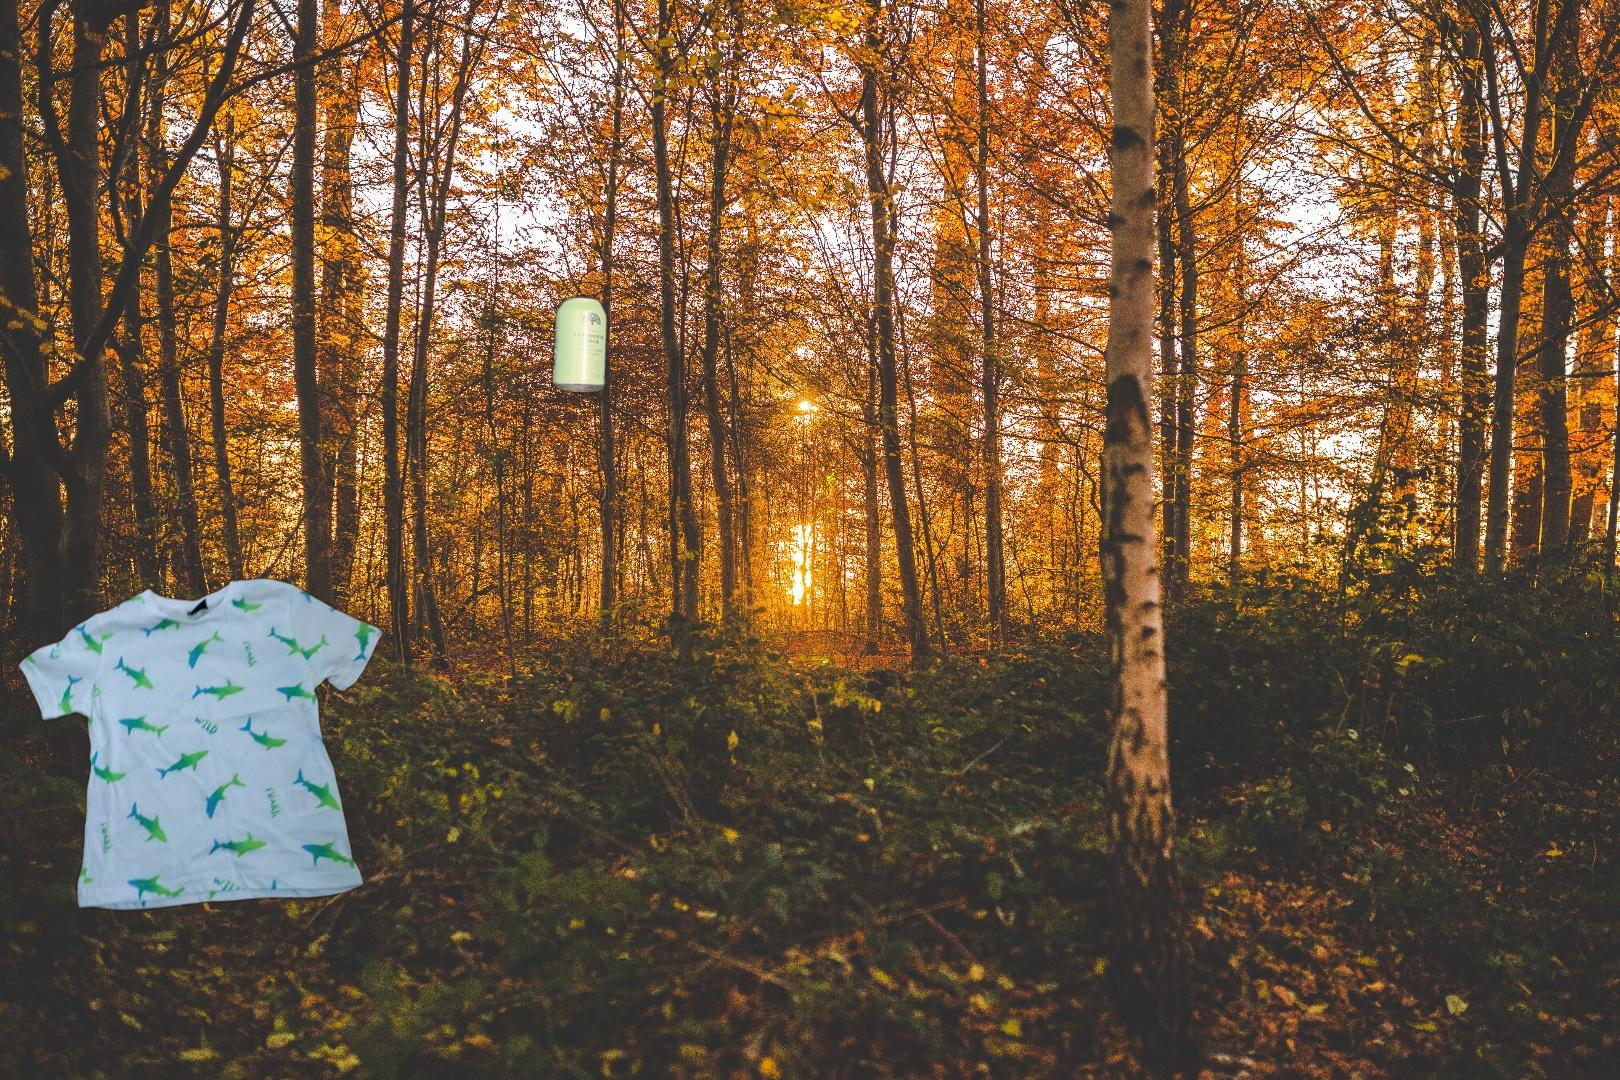clothes: (14, 575, 387, 915)
metal-cans: (547, 265, 687, 410)
